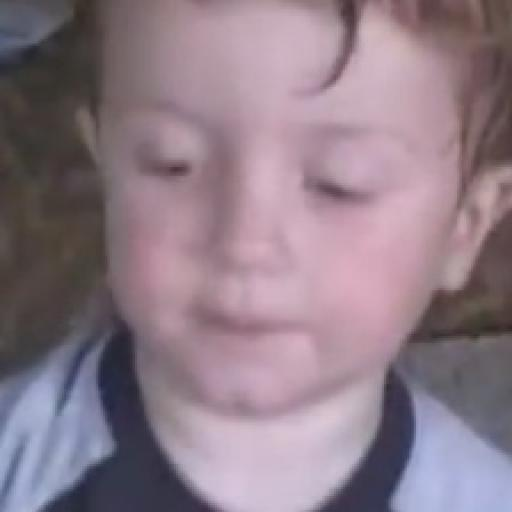Autism: (72, 10, 503, 414)
